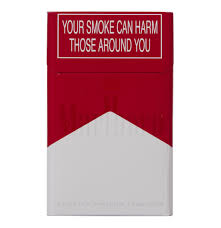marlboro: (48, 12, 171, 215)
